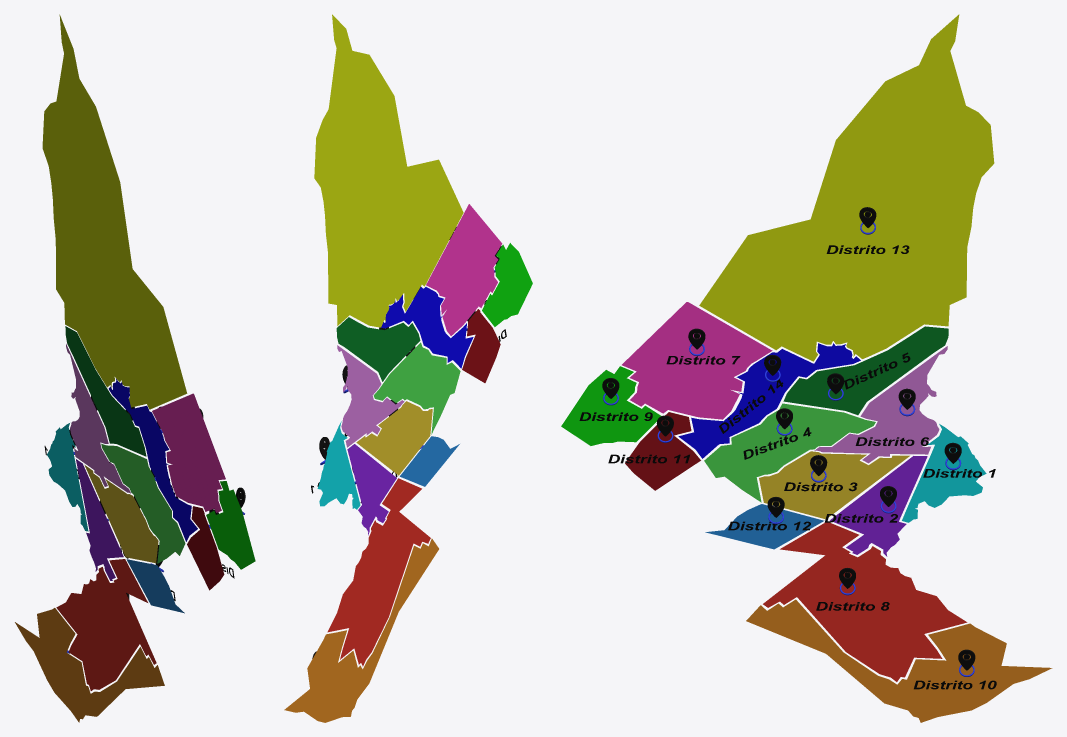
Rendered from mapa3.glb.
The picture shows the model from 3 angles, left to right: view 1: azimuth 30°, elevation 25°; view 2: azimuth 150°, elevation 25°; view 3: azimuth 270°, elevation 25°; orthographic projection. The views are drawn at different scales.
Parts seen in each view (by area): view 1: distrito10, distrito8, distrito13, distrito7, distrito4, distrito3, distrito14, distrito5, distrito6, distrito9, distrito2, distrito1 (+2 smaller); view 2: distrito10, distrito8, distrito13, distrito7, distrito4, distrito3, distrito14, distrito5, distrito6, distrito9, distrito2, distrito1 (+2 smaller); view 3: distrito10, distrito8, distrito13, distrito7, distrito4, distrito3, distrito5, distrito14, distrito6, distrito9, distrito2, distrito1 (+2 smaller).
Boxes of the visible parts, x1,y1,x2,y2 form: distrito10: [42, 14, 187, 409]; distrito8: [56, 559, 156, 690]; distrito13: [15, 608, 164, 722]; distrito7: [152, 393, 225, 512]; distrito4: [101, 443, 185, 563]; distrito3: [84, 465, 158, 563]; distrito14: [108, 379, 197, 541]; distrito5: [65, 326, 146, 456]; distrito6: [66, 344, 130, 493]; distrito9: [206, 481, 255, 569]; distrito2: [76, 459, 128, 580]; distrito1: [44, 423, 88, 531]; distrito10: [314, 14, 463, 327]; distrito8: [327, 478, 430, 666]; distrito13: [284, 538, 438, 722]; distrito7: [426, 204, 502, 335]; distrito4: [373, 342, 460, 434]; distrito3: [356, 401, 432, 475]; distrito14: [381, 287, 473, 368]; distrito5: [336, 317, 420, 381]; distrito6: [337, 345, 404, 447]; distrito9: [482, 243, 532, 326]; distrito2: [347, 444, 397, 535]; distrito1: [311, 421, 360, 509]; distrito10: [699, 14, 994, 361]; distrito8: [763, 522, 967, 681]; distrito13: [746, 599, 1052, 722]; distrito7: [622, 302, 772, 419]; distrito4: [704, 403, 875, 502]; distrito3: [759, 451, 909, 519]; distrito5: [783, 326, 948, 415]; distrito14: [678, 343, 860, 458]; distrito6: [814, 346, 947, 463]; distrito9: [561, 366, 661, 445]; distrito2: [824, 456, 927, 556]; distrito1: [902, 424, 995, 522].
Size of the model in its own units: 0.0202 by 0.996 by 0.6265.
